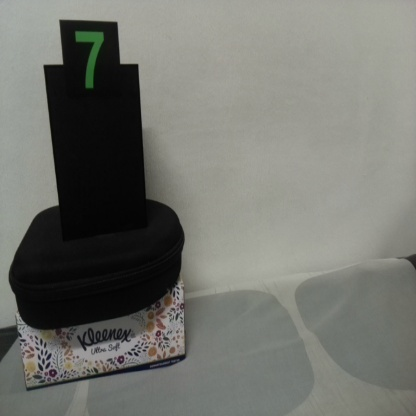id_7: (59, 20, 122, 106)
